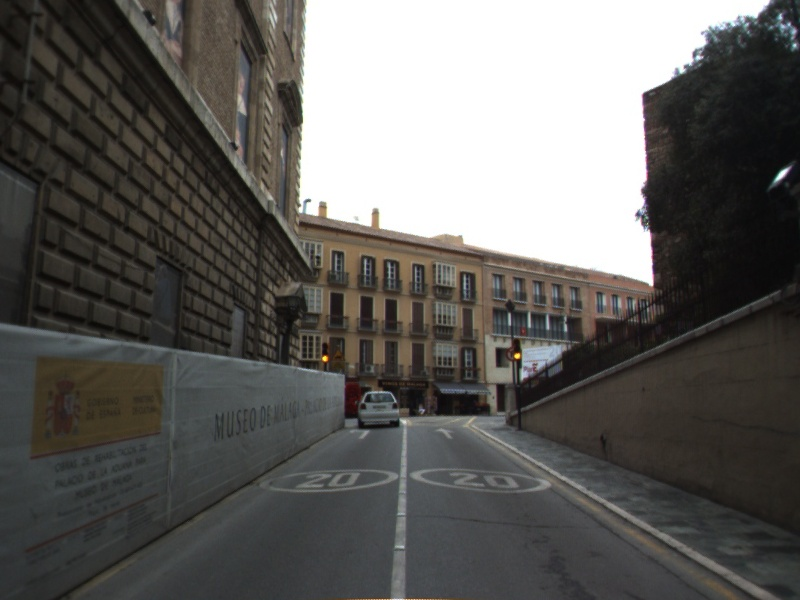LEFT: (347, 426, 372, 441)
STRAIGHT: (431, 426, 458, 441)
